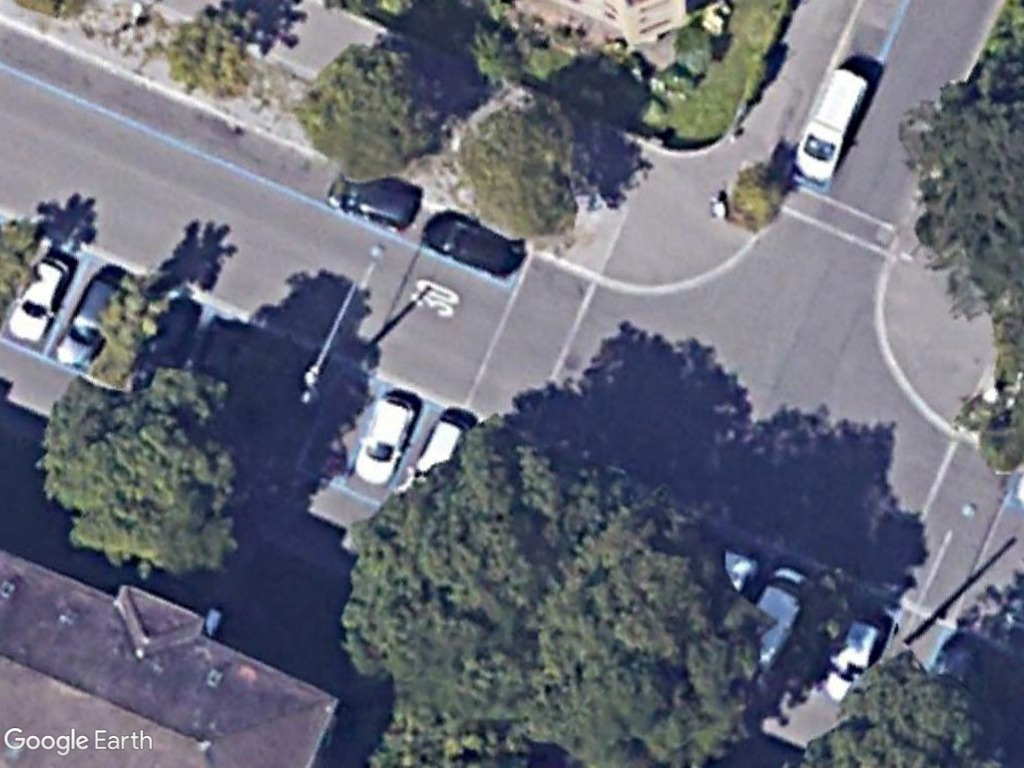car: (351, 393, 419, 488), (6, 254, 72, 348)
van: (790, 65, 868, 188)
